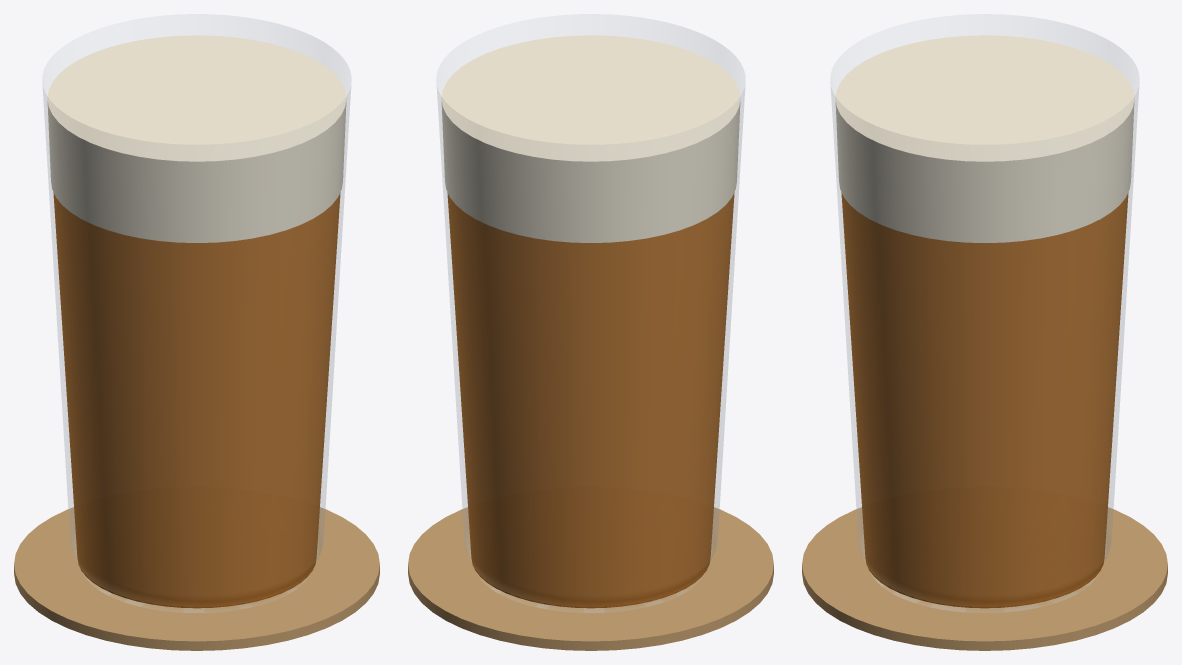
Rendered from cerveza.glb.
3 renders of one model, left to right at view 1: azimuth 30°, elevation 25°; view 2: azimuth 150°, elevation 25°; view 3: azimuth 270°, elevation 25°, orthographic.
Size of the model in its own units: 0.104 by 0.155 by 0.104.
